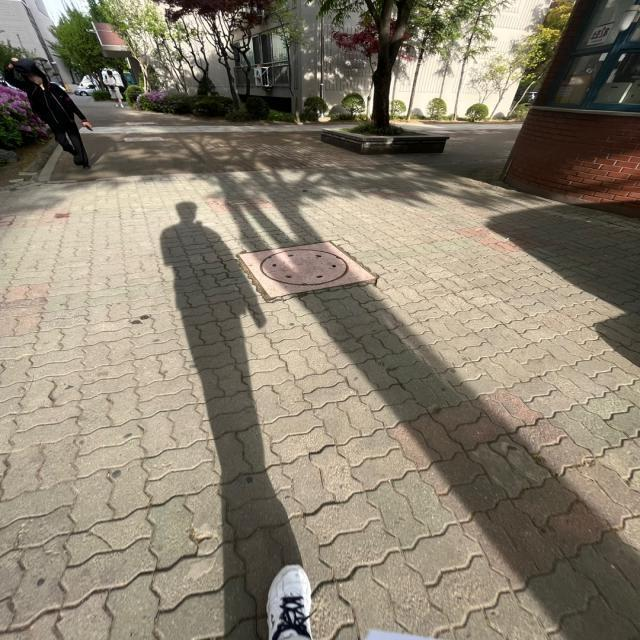Sewer Cover: (221, 229, 399, 318)
